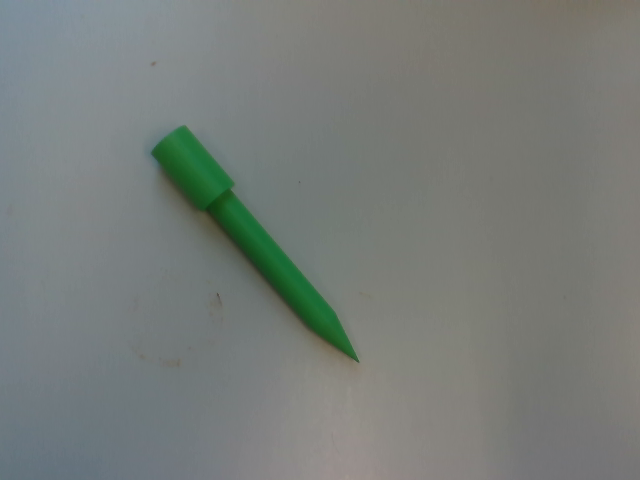Probe: (146, 117, 368, 370)
